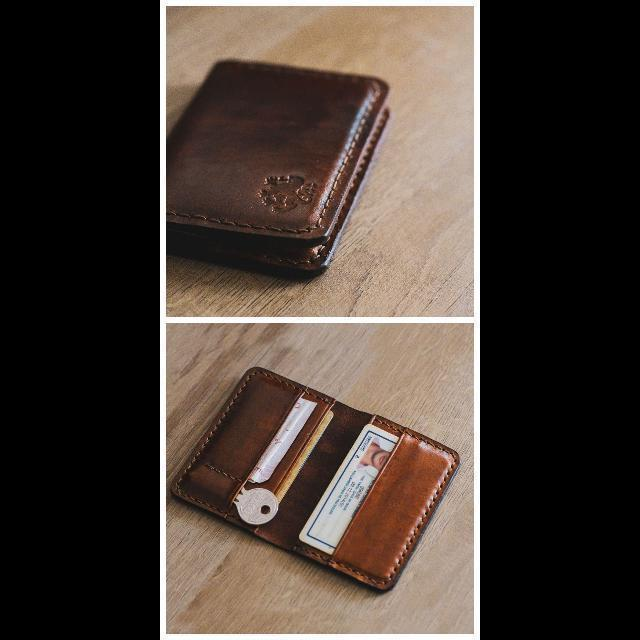wallet: (166, 368, 460, 590), (160, 56, 394, 280)
